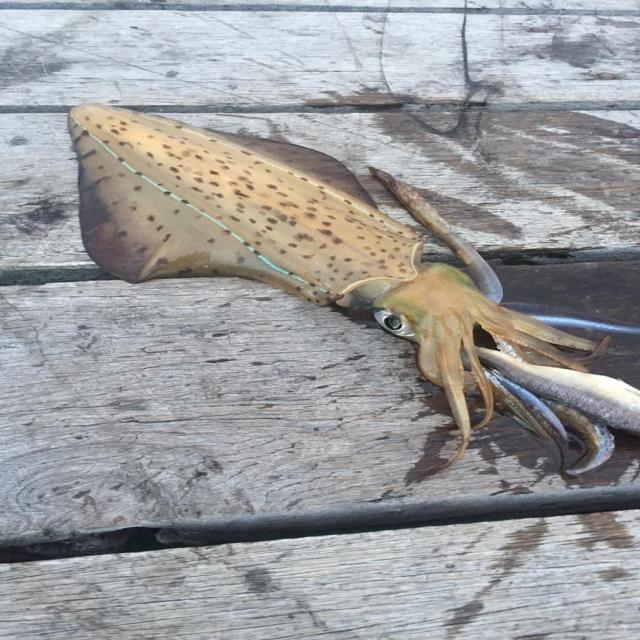SQUID: (61, 81, 640, 499)
